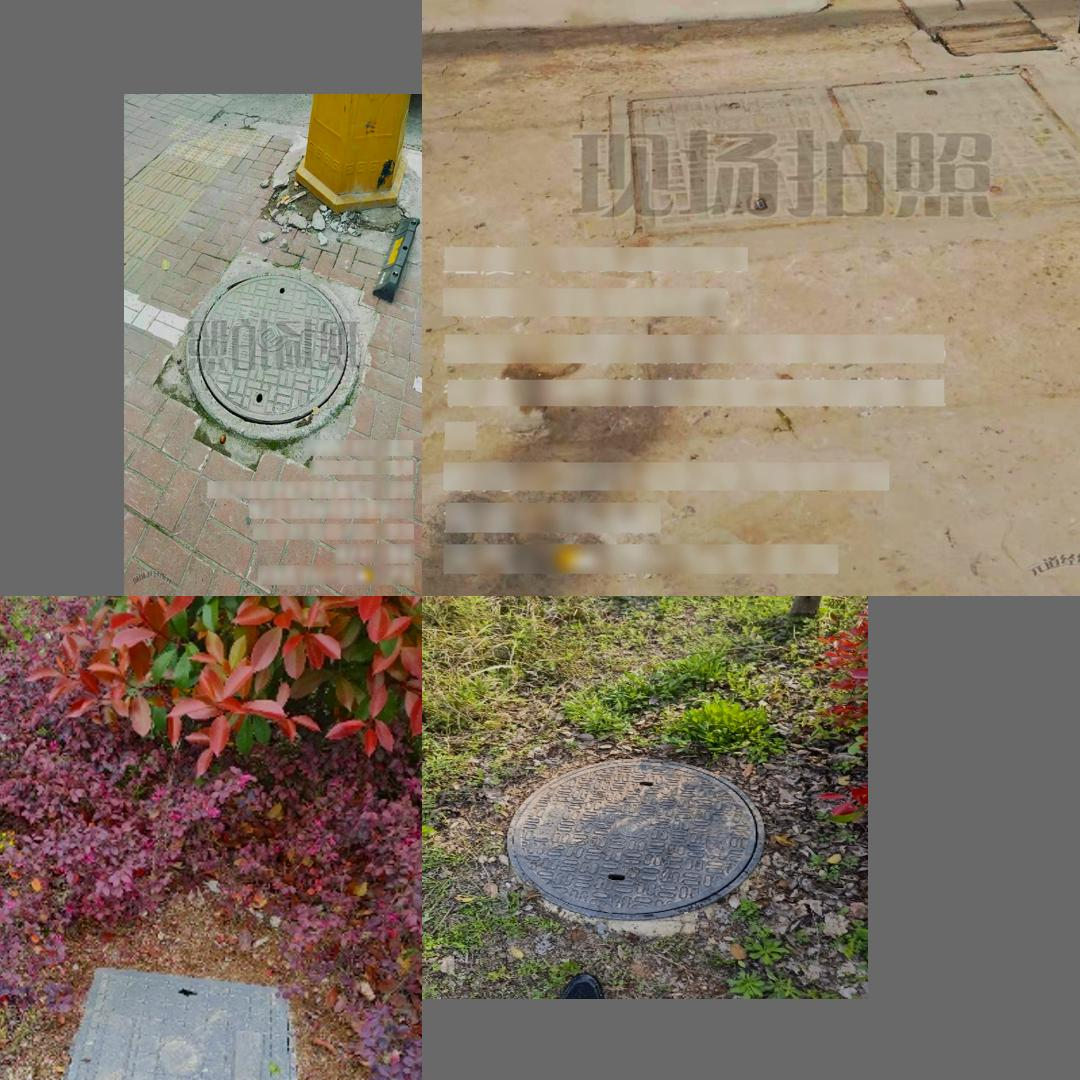good: (600, 83, 1080, 238), (504, 759, 762, 919), (184, 267, 359, 440), (50, 965, 294, 1080)
